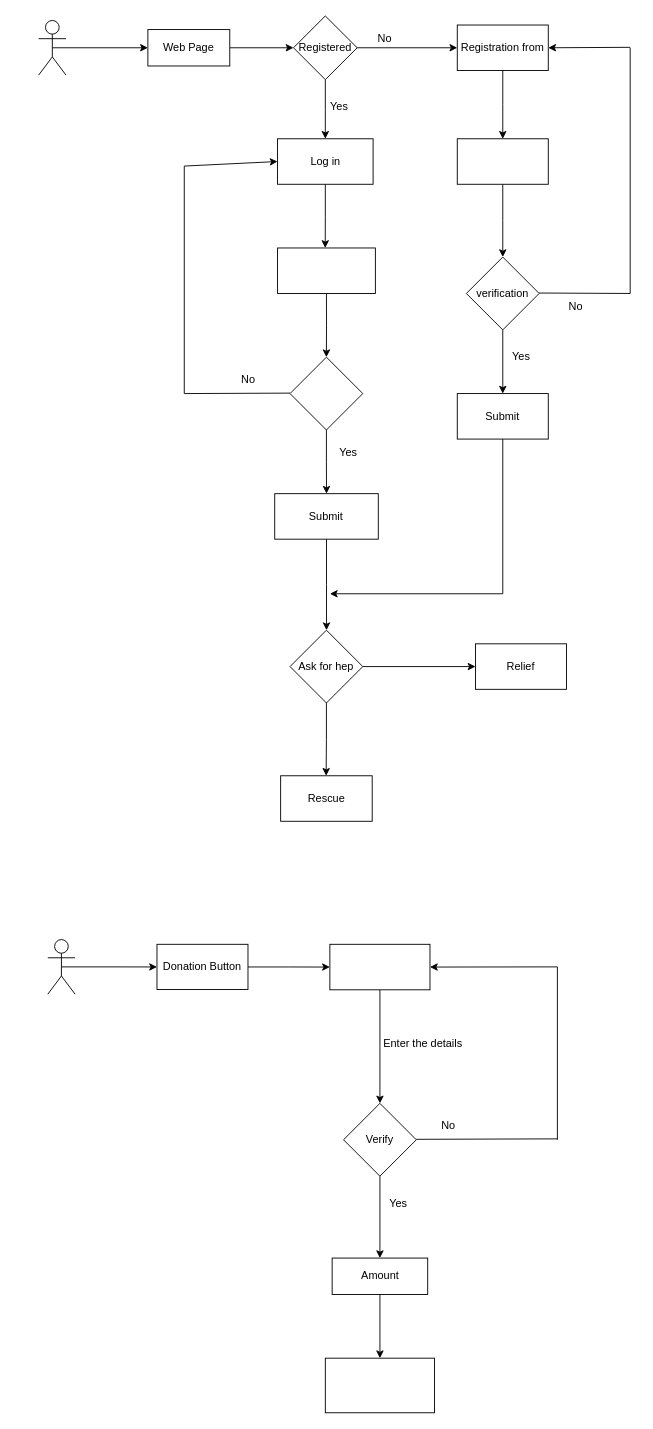
Image size: 653x1429. Some labels were removed from this diagram. Here are the shapes that lost their labels. From the top down, the centre of each, then its label:
At point 52,47: "victim".
At point 502,161: "Fill the details".
At point 326,270: "Username & password".
At point 326,393: "Verify the credentials".
At point 61,966: "Supporting agency".
At point 379,966: "Form".
At point 379,1385: "Donate".
